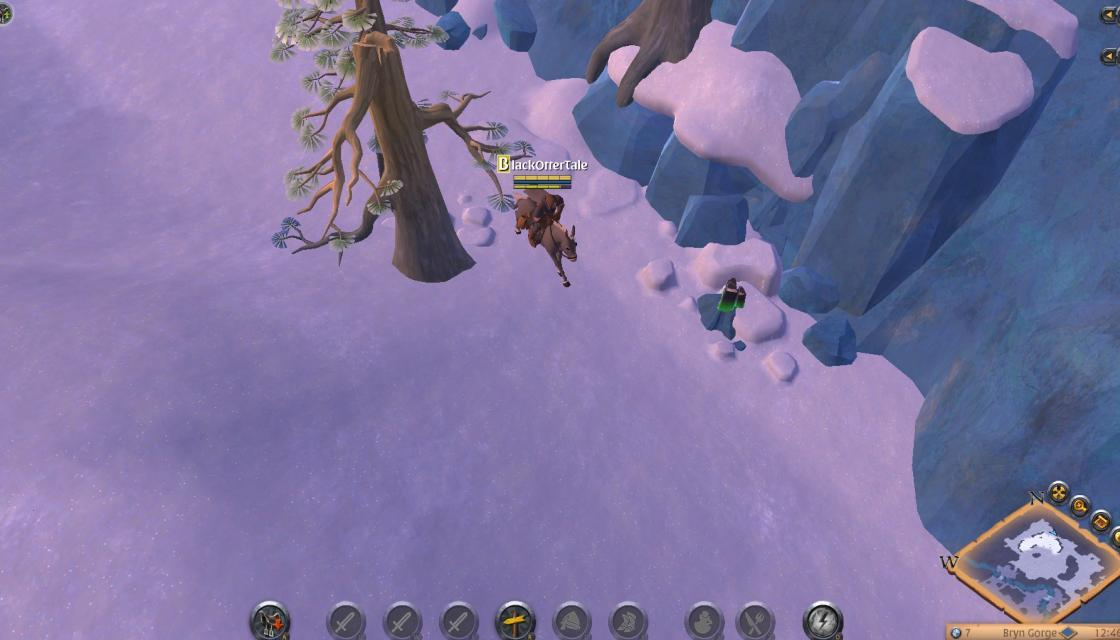tinore: (700, 276, 754, 336)
